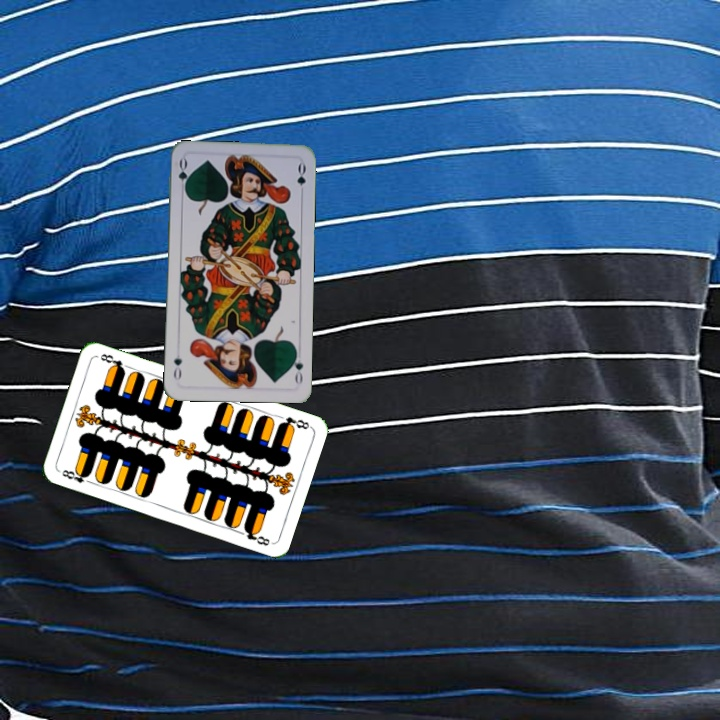E8: (58, 466, 95, 486), (275, 413, 313, 432)
GO: (288, 346, 305, 387), (174, 155, 190, 196)
